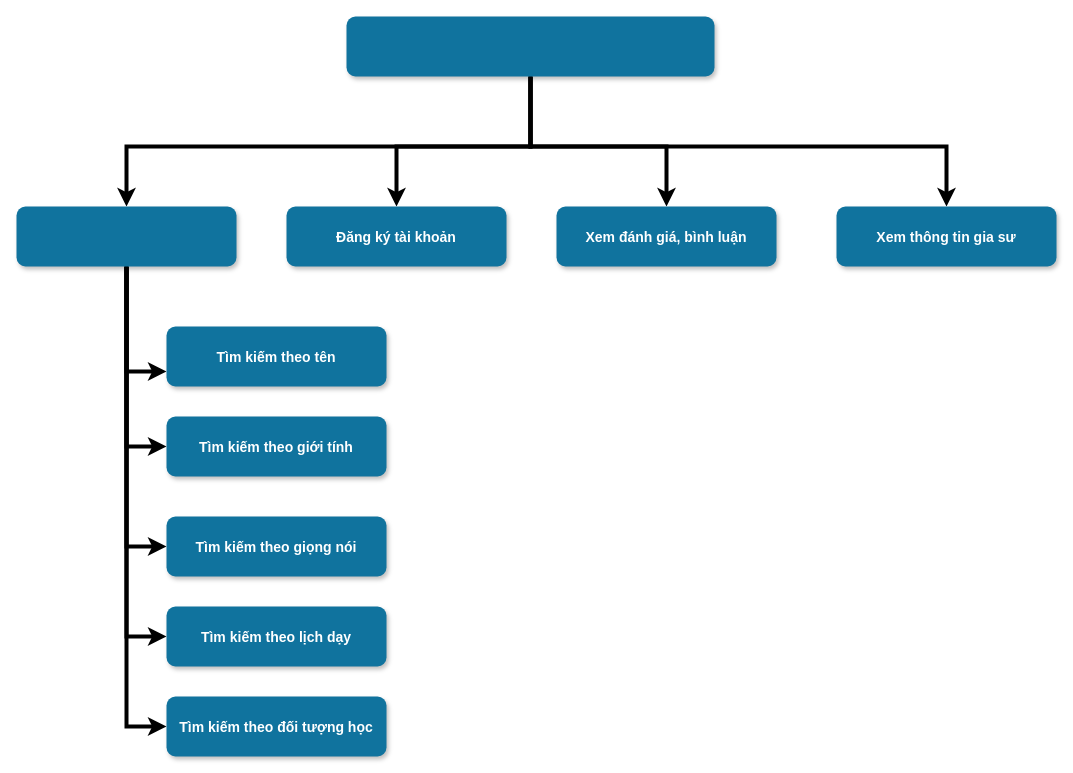
The diagram is 1073 pixels wide and 773 high, and some of its shapes have lost their labels. Here are the shapes that lost their labels. From the top down, the centre of each, then its label:
point 531,47: HỆ THỐNG CỘNG ĐỒNG GIA SƯ
point 127,237: Tìm kiếm khoá học
